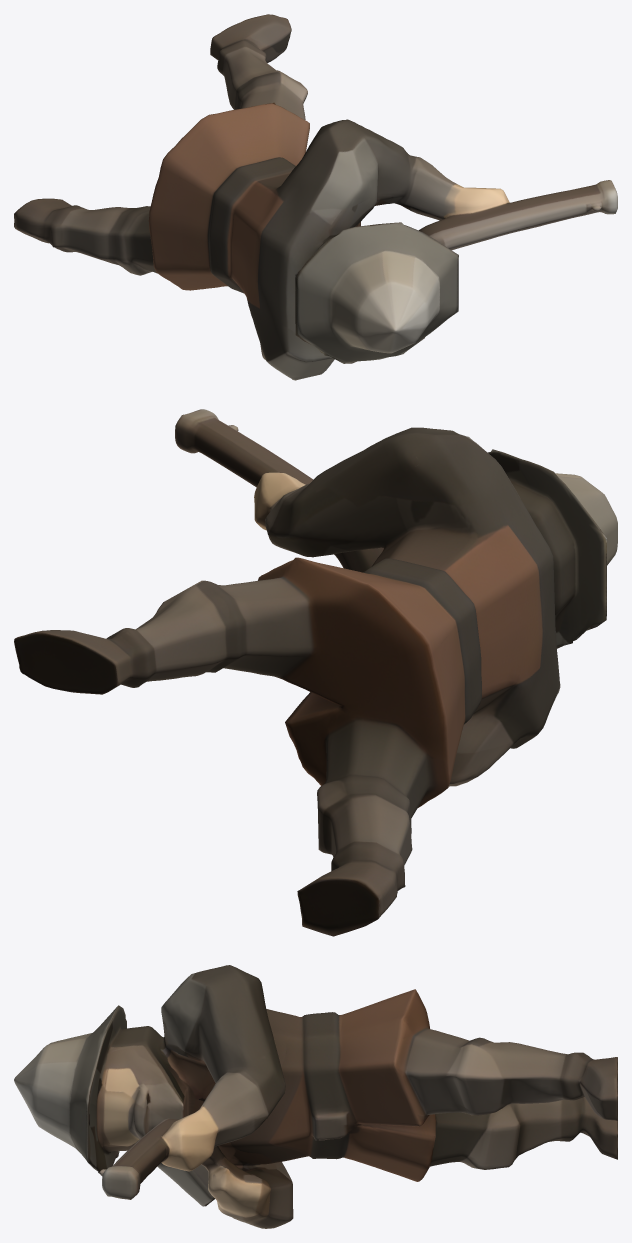
File: Gunner.obj
The picture shows the model from 3 angles, top to bottom: view 1: azimuth 30°, elevation 25°; view 2: azimuth 150°, elevation 25°; view 3: azimuth 270°, elevation 25°; orthographic projection. The views are drawn at different scales.
Parts seen in each view (by area): view 1: SomeMeshName; view 2: SomeMeshName; view 3: SomeMeshName.
Boxes of the visible parts, x1,y1,x2,y2 form: SomeMeshName: [14, 14, 617, 380]; SomeMeshName: [14, 409, 617, 936]; SomeMeshName: [14, 965, 617, 1228].
Size of the model in its own units: 1.48 by 0.9224 by 1.9.
Materials: 1 (1 with a texture image).
